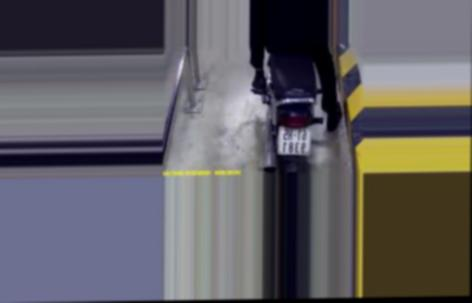License_Plate: (274, 124, 316, 157)
